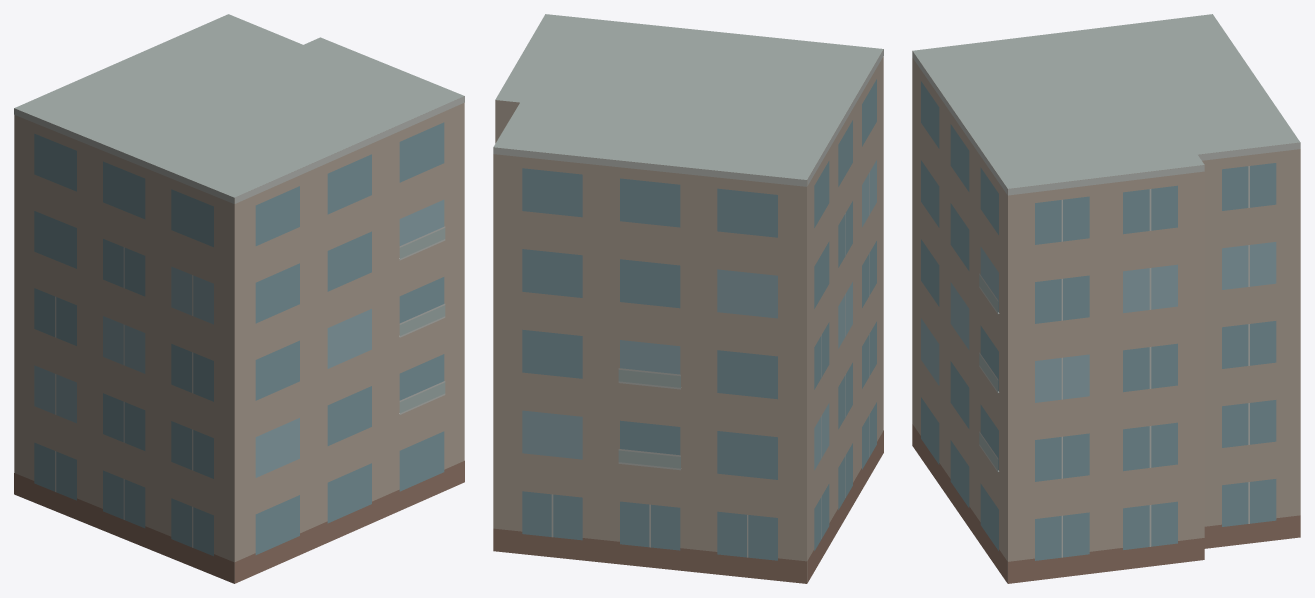
Rendered from survey-upis-32653641.glb.
The picture shows the model from 3 angles, left to right: view 1: azimuth 30°, elevation 25°; view 2: azimuth 150°, elevation 25°; view 3: azimuth 270°, elevation 25°; orthographic projection. The views are drawn at different scales.
Parts seen in each view (by area): view 1: survey-upis-32653641.tmp; view 2: survey-upis-32653641.tmp; view 3: survey-upis-32653641.tmp.
Part boxes in pixels (bbox=[...]): survey-upis-32653641.tmp: bbox=[14, 14, 464, 583]; survey-upis-32653641.tmp: bbox=[493, 14, 883, 583]; survey-upis-32653641.tmp: bbox=[912, 14, 1300, 583].
Size of the model in its own units: 13.78 by 14.5 by 12.92.
